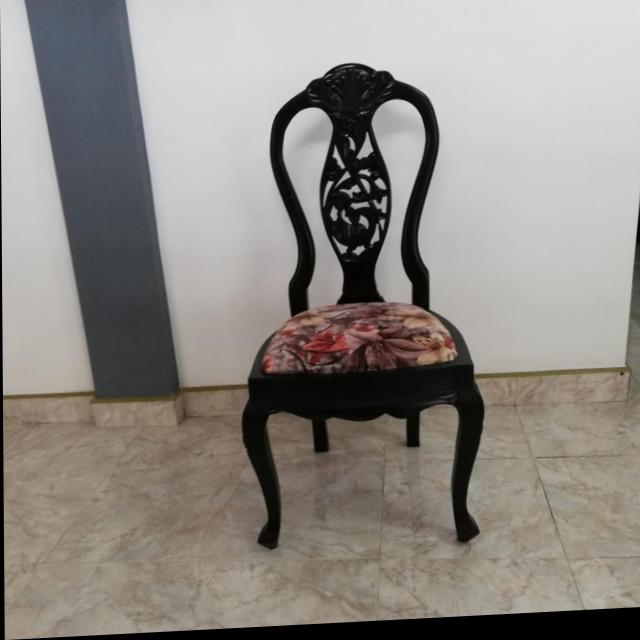Chair: (239, 60, 486, 556)
